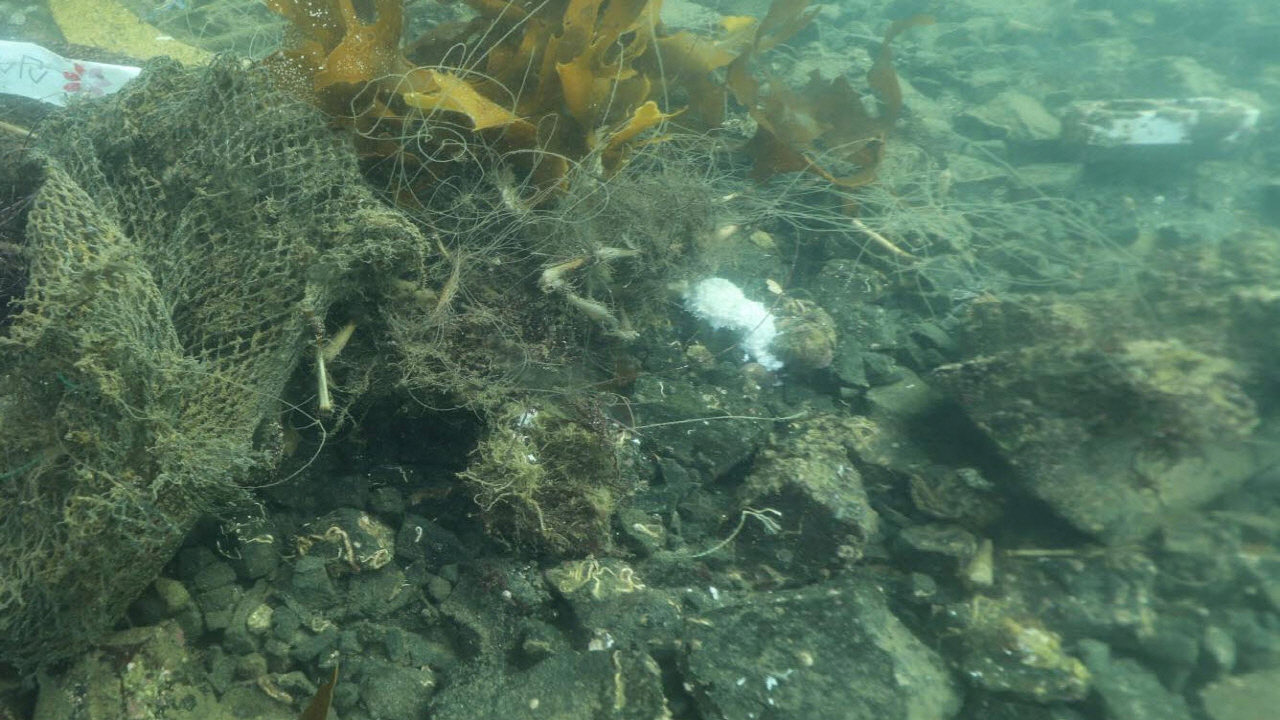fish net: (0, 54, 417, 679)
